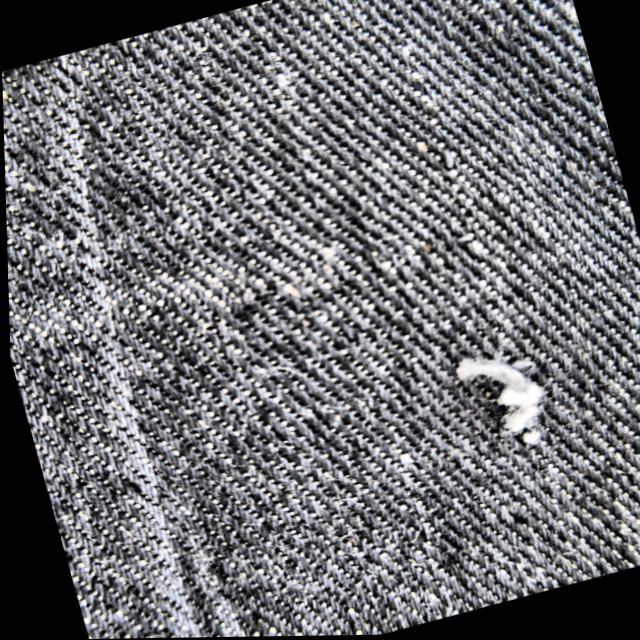Stitch: (423, 320, 583, 485)
